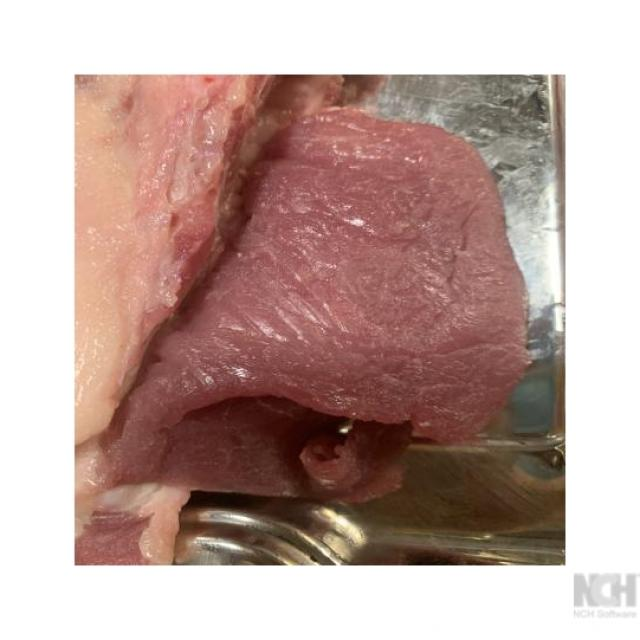rotten meat: (56, 57, 579, 573)
